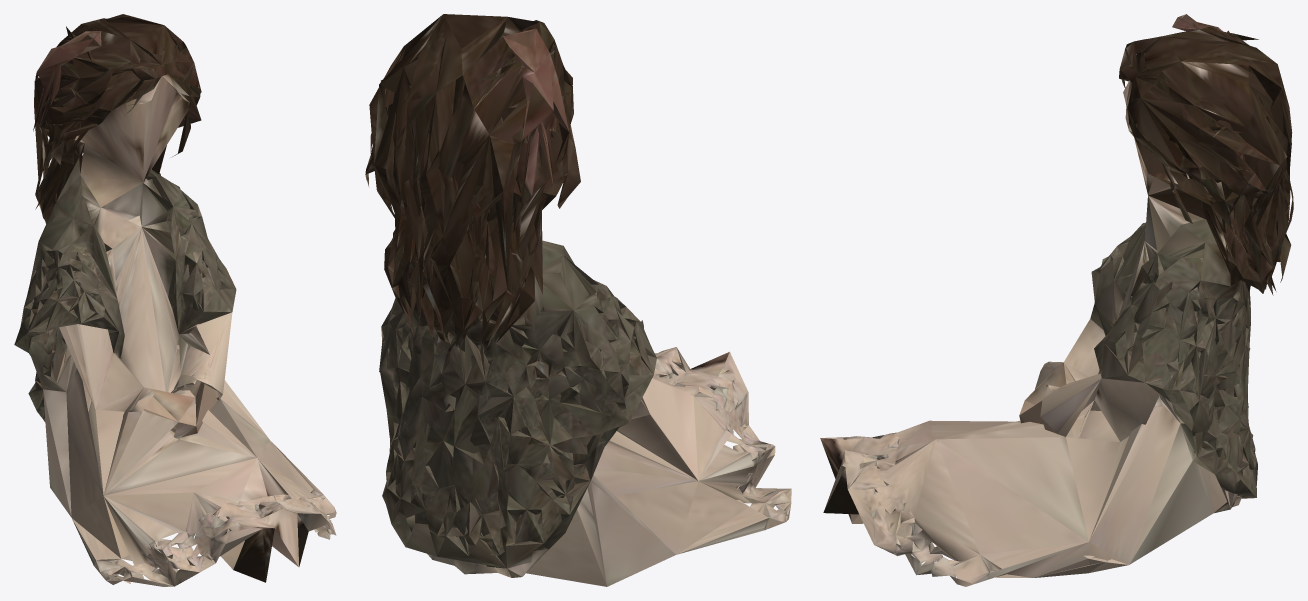
The model's file is up_doll_nightgown.glb.
The picture shows the model from 3 angles, left to right: view 1: azimuth 30°, elevation 25°; view 2: azimuth 150°, elevation 25°; view 3: azimuth 270°, elevation 25°; orthographic projection. The views are drawn at different scales.
Parts seen in each view (by area): view 1: up_doll_nightgown; view 2: up_doll_nightgown; view 3: up_doll_nightgown.
Part boxes in pixels (box(x1,y1,x2,y2)): up_doll_nightgown: box(14, 14, 336, 586); up_doll_nightgown: box(365, 14, 791, 586); up_doll_nightgown: box(820, 14, 1293, 586).
Bounding box in the file's own units: 0.2592 × 0.46 × 0.3963.
Materials: 1 (1 with a texture image).
